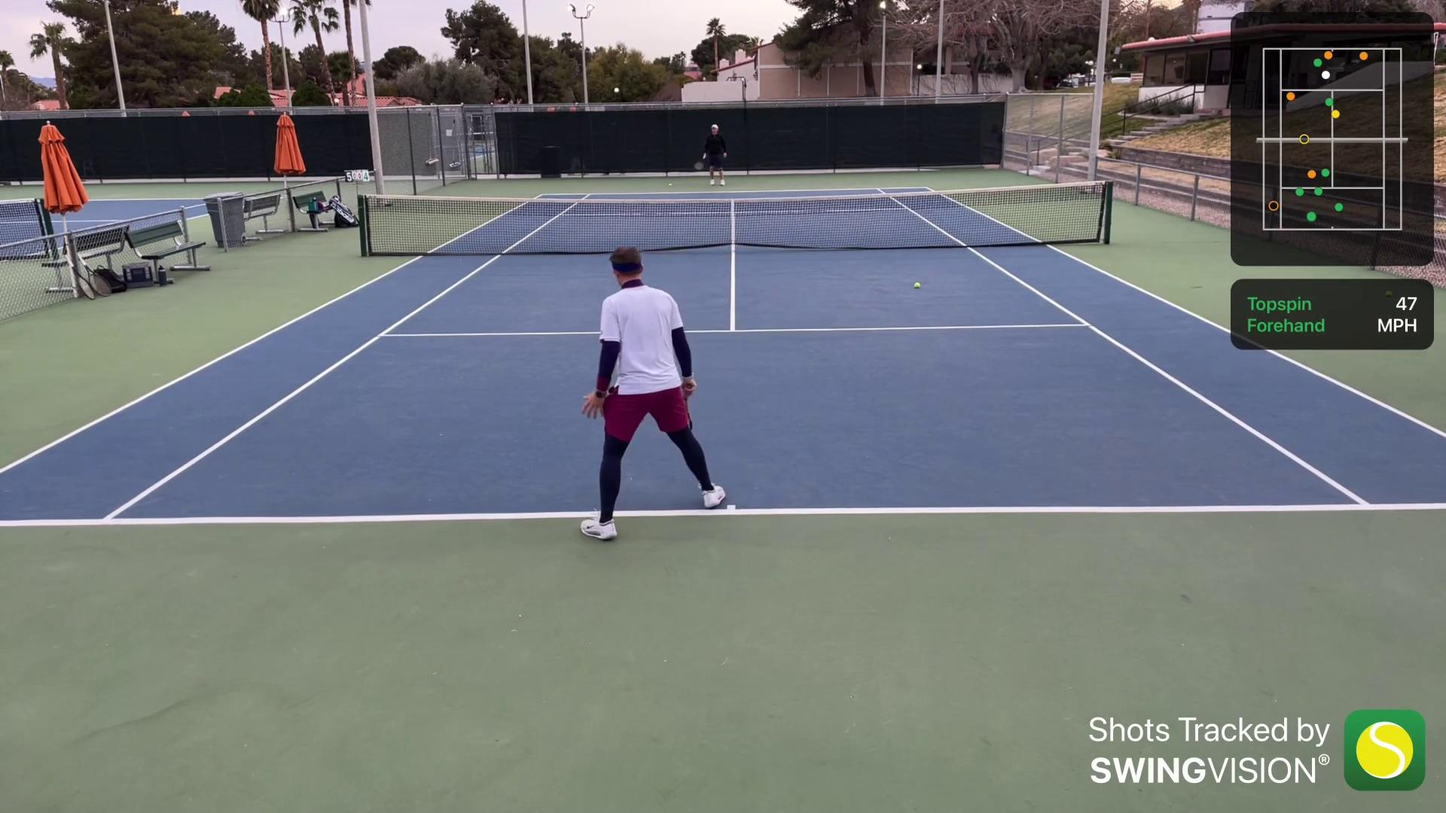ball: (912, 280, 923, 290), (667, 180, 674, 189)
